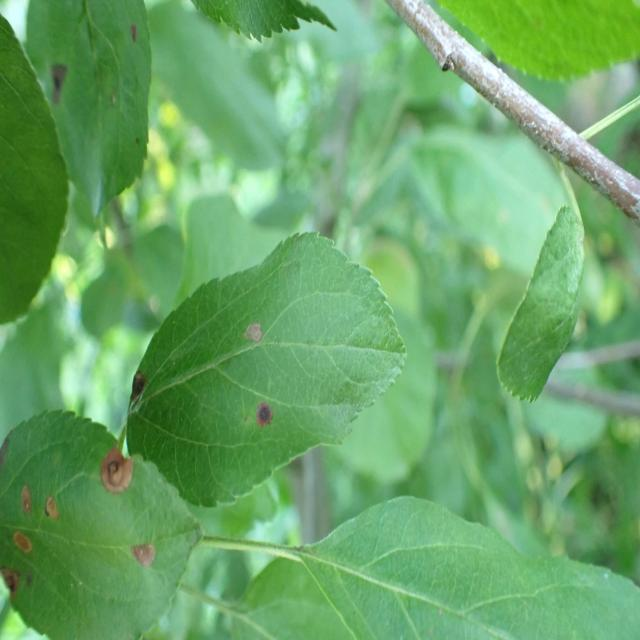Black Rot: (96, 434, 145, 506), (124, 530, 170, 576), (237, 301, 273, 353), (5, 472, 39, 522), (243, 394, 279, 434), (6, 529, 40, 567), (40, 491, 70, 531)
